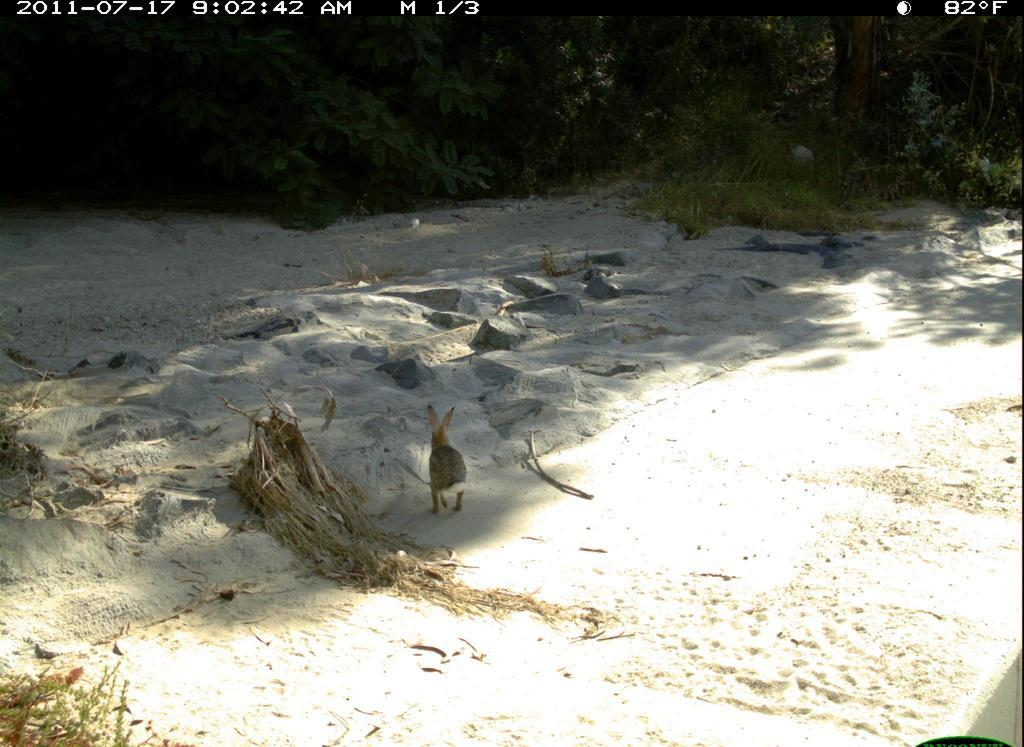rabbit: (414, 395, 478, 525)
